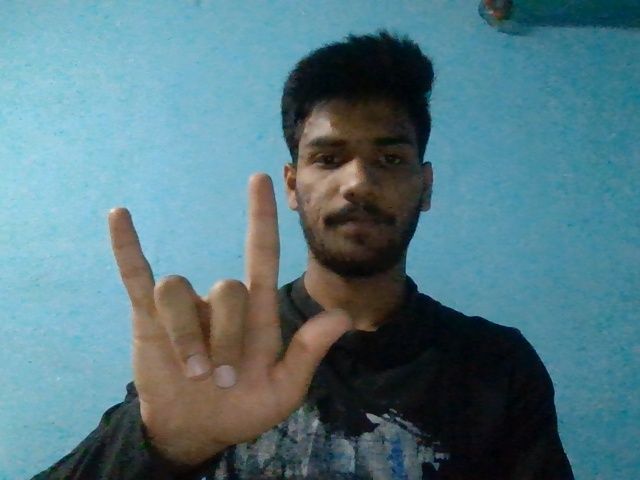I Love You: (107, 172, 354, 445)
